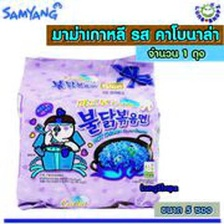snack: (8, 46, 168, 214)
